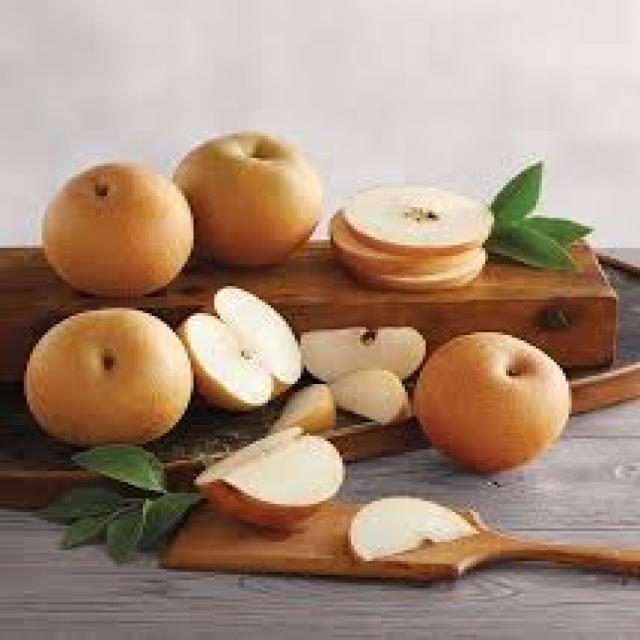pear: (24, 310, 193, 447), (418, 333, 576, 474), (46, 163, 195, 297)
